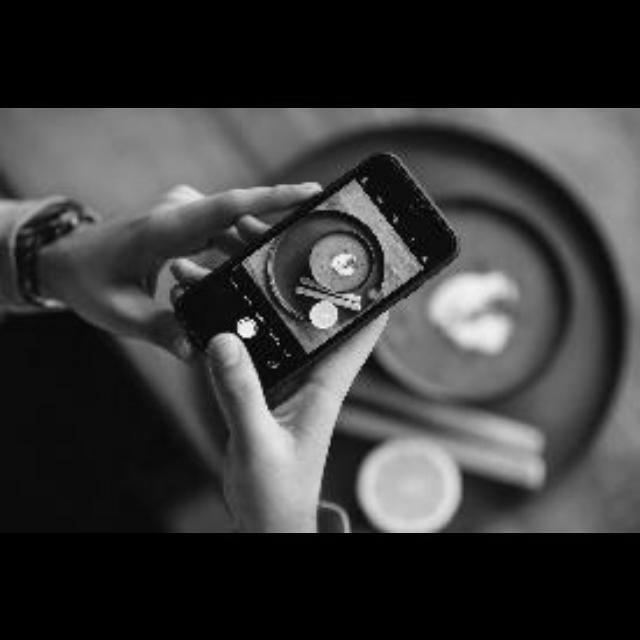fake: (116, 148, 494, 418)
